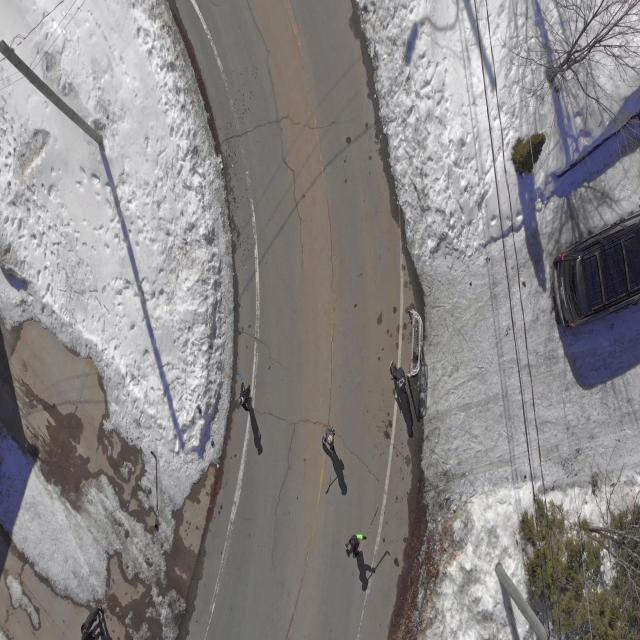Car: (542, 203, 640, 351)
